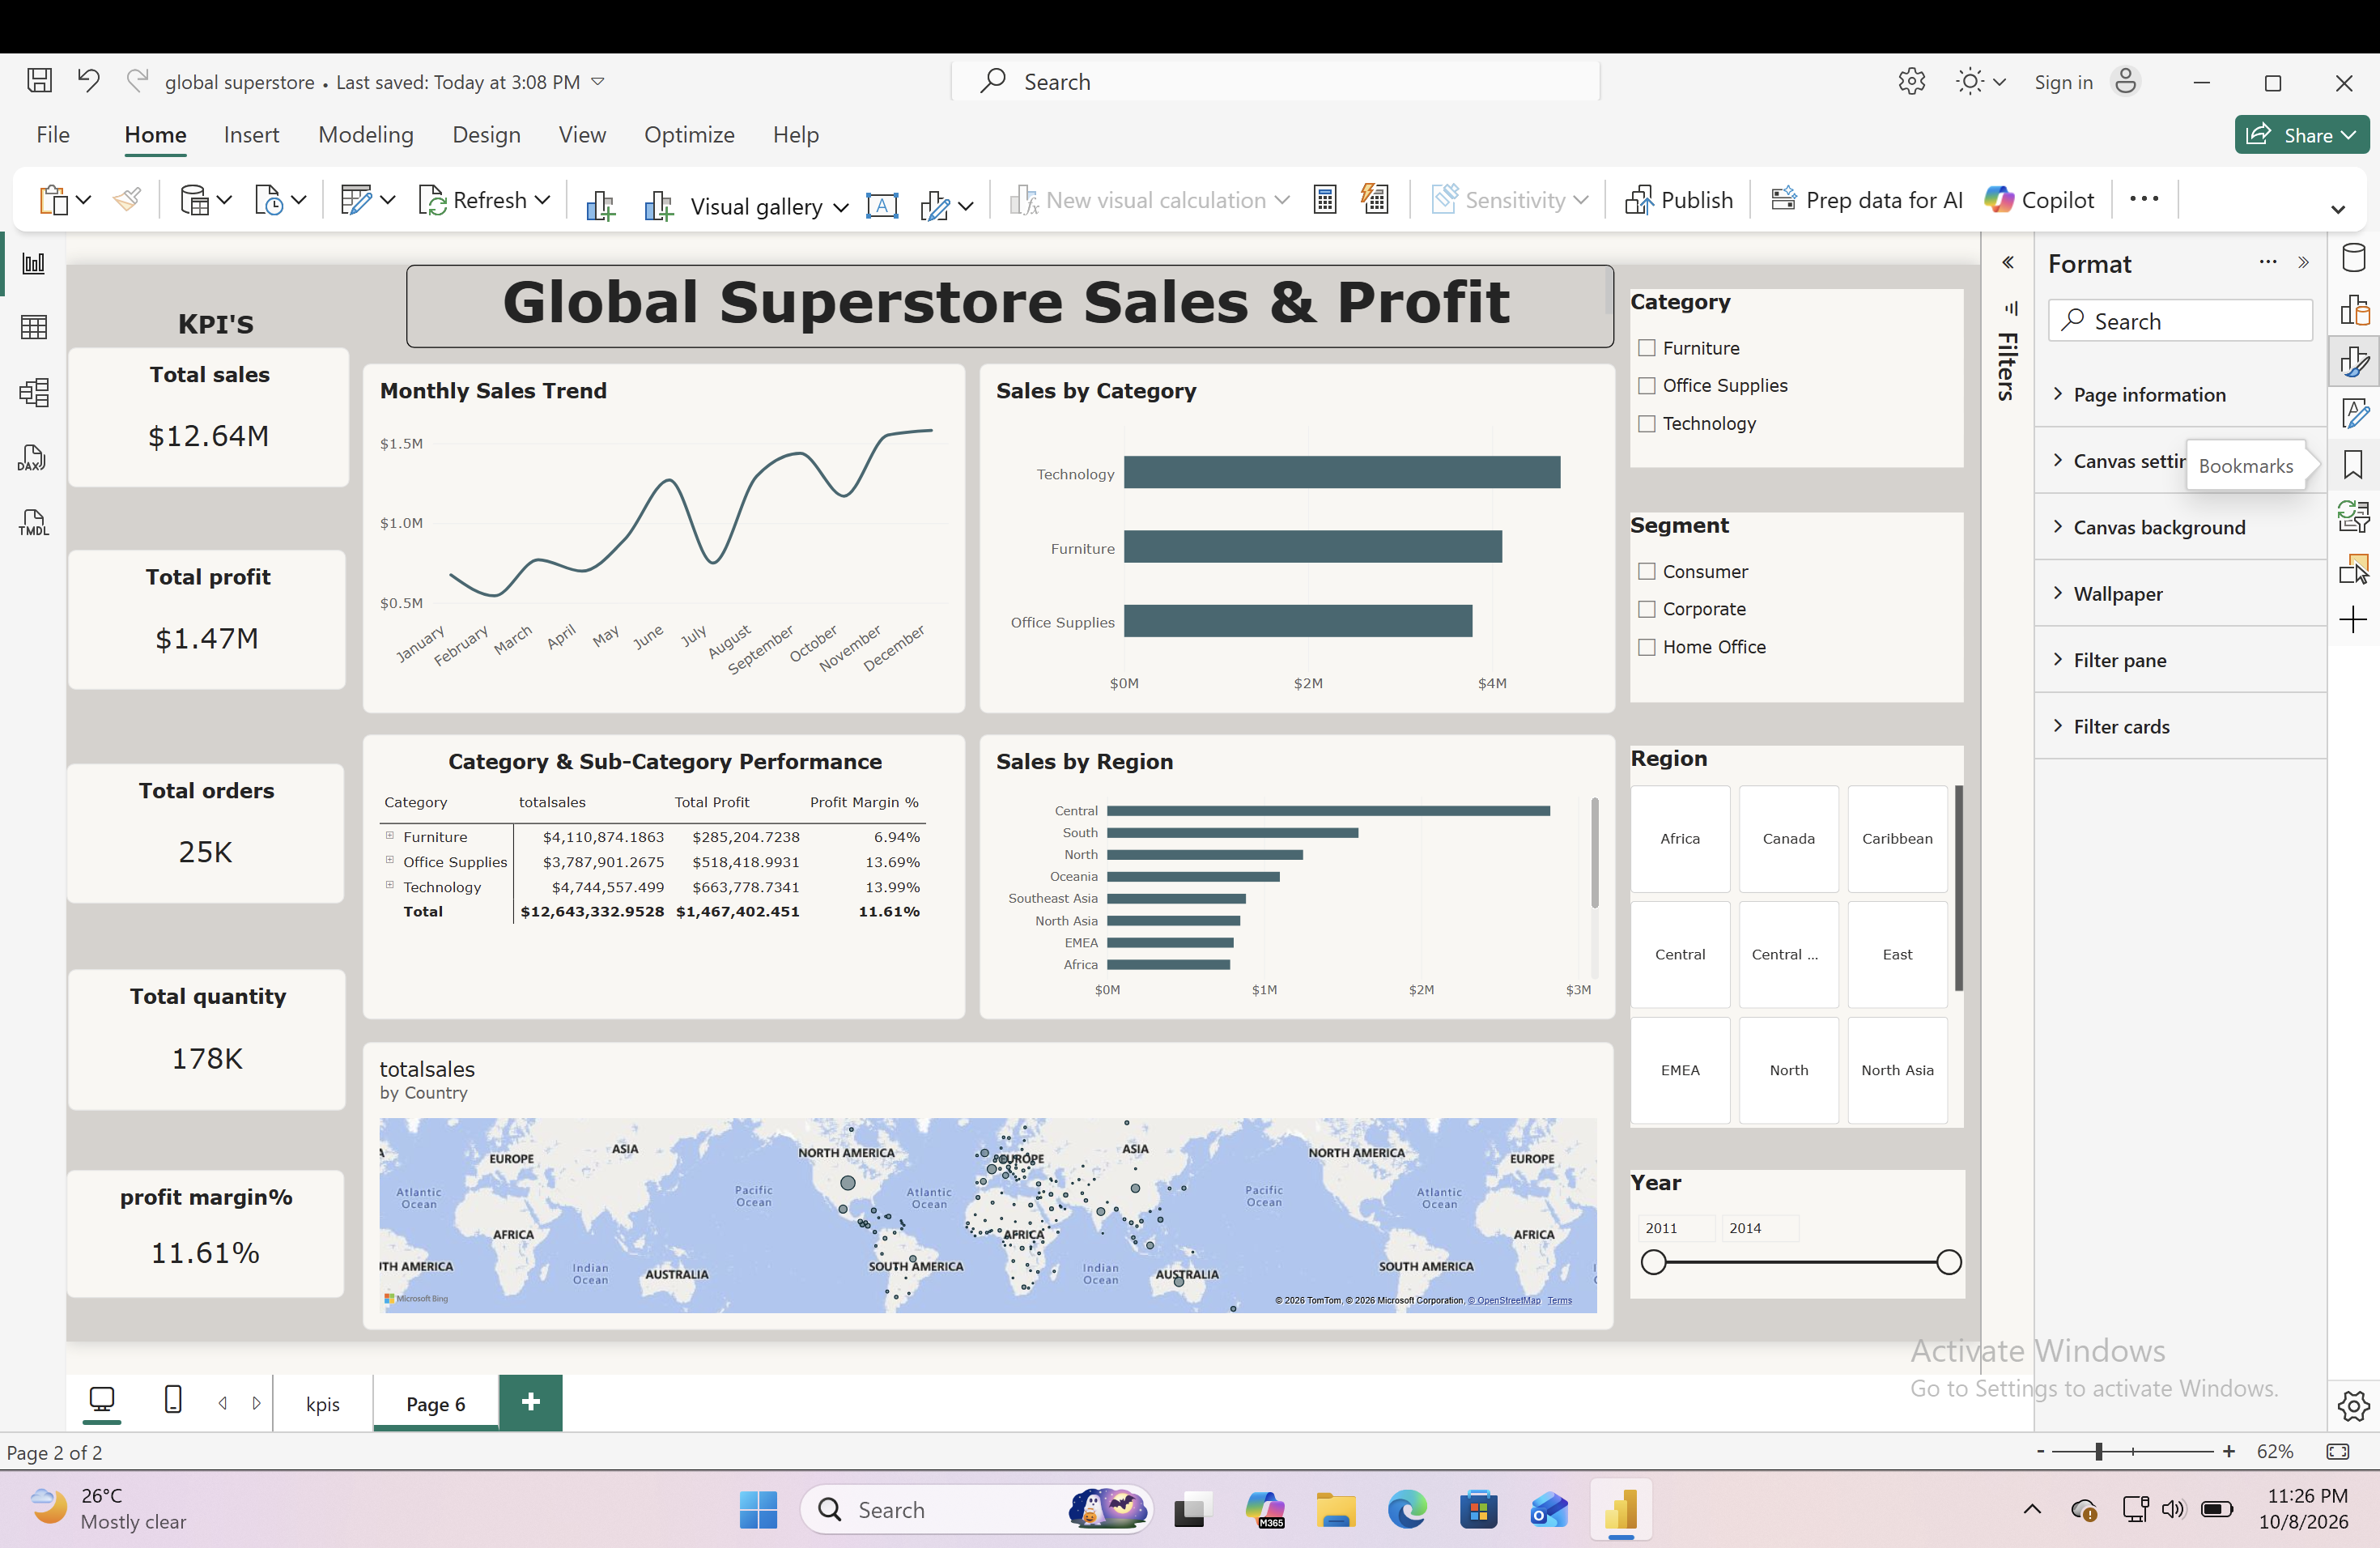

The page's visual inventory and layout, read from the dashboard file:
{"tool":"powerbi","page":{"name":"Page 6","canvas":[1920,1080],"ordinal":1},"visuals":[{"type":"textbox","box":[341.1,0,1212.1,83.6],"z":0},{"type":"card","title":"Total sales","fields":{"Values":["Orders.totalsales"]},"box":[1.7,83.6,282.5,140.4],"z":1},{"type":"card","title":"Total profit","fields":{"Values":["Orders.Total Profit"]},"box":[1.7,285.9,279.2,140.4],"z":2},{"type":"card","title":"Total orders","fields":{"Values":["Orders.Total Orders"]},"box":[0,499.9,279.2,140.4],"z":3},{"type":"card","title":"Total quantity","fields":{"Values":["Orders.totalquantity"]},"box":[1.7,707.2,279.2,142.1],"z":4},{"type":"card","title":"profit margin%","fields":{"Values":["Orders.Profit Margin %"]},"box":[0,907.8,279.2,128.7],"z":5},{"type":"slicer","title":"Category","fields":{"Values":["Orders.Category"]},"box":[1569.8,25.1,334.4,178.9],"z":6},{"type":"slicer","title":"Segment","fields":{"Values":["Orders.Segment"]},"box":[1569.8,249.1,334.4,190.6],"z":7},{"type":"advancedSlicerVisual","fields":{"Values":["Orders.Region"]},"box":[1569.8,483.2,334.4,382.8],"z":8},{"type":"slicer","title":"Year","fields":{"Values":["Orders.Order Date.Variation.Date Hierarchy.Year"]},"box":[1569.8,907.8,336,128.7],"z":9},{"type":"lineChart","title":"Monthly Sales Trend","fields":{"Category":["Orders.Order Date.Variation.Date Hierarchy.Month"],"Y":["Orders.totalsales"]},"box":[297.6,98.6,605.2,351.1],"z":10},{"type":"clusteredBarChart","title":"Sales by Category","fields":{"Category":["Orders.Category"],"Y":["Orders.totalsales"]},"box":[916.2,98.6,638.6,351.1],"z":11},{"type":"pivotTable","title":"Category & Sub-Category Performance","fields":{"Rows":["Orders.Category","Orders.Sub-Category"],"Values":["Orders.totalsales","Orders.Total Profit","Orders.Profit Margin %"]},"box":[297.6,471.5,605.2,285.9],"z":12},{"type":"barChart","title":"Sales by Region","fields":{"Category":["Orders.Region"],"Y":["Orders.totalsales"]},"box":[916.2,471.5,638.6,285.9],"z":13},{"type":"map","fields":{"Category":["Orders.Country"],"Size":["Orders.totalsales"]},"box":[297.6,779.1,1255.5,289.2],"z":14},{"type":"textbox","box":[0,41.8,299.3,43.5],"z":15}]}

Visuals, with their boxes on the page's 1920x1080 design canvas (x1, y1, x2, y2). These are canvas units, not pixel positions in the 2380x1548 screenshot, which may show the page scaled, cropped or inside an application window:
textbox: locate(341, 0, 1553, 84)
"Total sales" card: locate(2, 84, 284, 224)
"Total profit" card: locate(2, 286, 281, 426)
"Total orders" card: locate(0, 500, 279, 640)
"Total quantity" card: locate(2, 707, 281, 849)
"profit margin%" card: locate(0, 908, 279, 1036)
"Category" slicer: locate(1570, 25, 1904, 204)
"Segment" slicer: locate(1570, 249, 1904, 440)
advancedSlicerVisual - Orders.Region: locate(1570, 483, 1904, 866)
"Year" slicer: locate(1570, 908, 1906, 1036)
"Monthly Sales Trend" lineChart: locate(298, 99, 903, 450)
"Sales by Category" clusteredBarChart: locate(916, 99, 1555, 450)
"Category & Sub-Category Performance" pivotTable: locate(298, 472, 903, 757)
"Sales by Region" barChart: locate(916, 472, 1555, 757)
map - Orders.Country x Orders.totalsales: locate(298, 779, 1553, 1068)
textbox: locate(0, 42, 299, 85)
